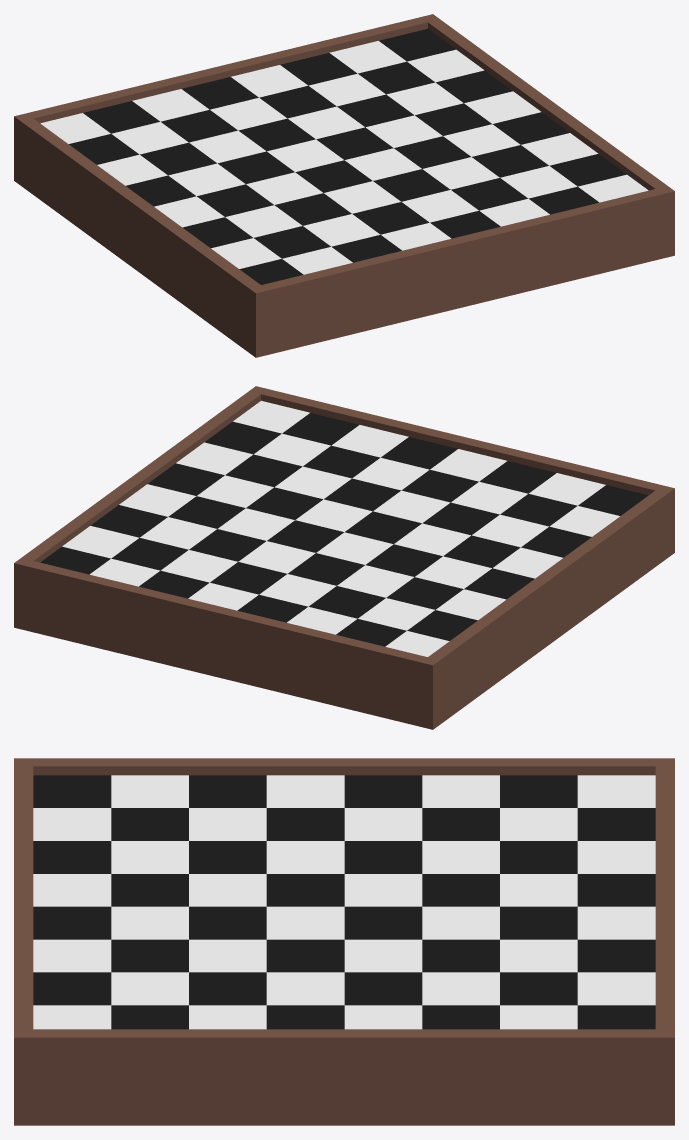
The model's file is chessboard.glb.
3 renders of one model, top to bottom at view 1: azimuth 30°, elevation 25°; view 2: azimuth 150°, elevation 25°; view 3: azimuth 270°, elevation 25°, orthographic. The views are drawn at different scales.
Visible parts, largest first — view 1: group878460196, group1325720107, group731066650, group1235043960, group661305979, group1740890251, group369631215, group1808535318, group278950108, group518038657, group1230324263, group765453840 (+56 smaller); view 2: group731066650, group1325720107, group878460196, group1235043960, group1224889573, group2118100802, group1318065566, group2135613780, group909947231, group983052907, group1790432942, group1740890251 (+56 smaller); view 3: group1235043960, group1325720107, group878460196, group731066650, group1790432942, group661305979, group2029711187, group343376950, group1361117225, group1150728838, group1844088387, group1740890251 (+56 smaller).
Boxes of the visible parts, <box> form: group878460196: <box>261,186,674,354</box>; group1325720107: <box>21,118,268,357</box>; group731066650: <box>14,17,427,185</box>; group1235043960: <box>422,14,667,190</box>; group661305979: <box>443,124,520,156</box>; group1740890251: <box>394,136,470,168</box>; group369631215: <box>238,118,315,151</box>; group1808535318: <box>111,122,188,154</box>; group278950108: <box>132,89,209,121</box>; group518038657: <box>521,133,598,165</box>; group1230324263: <box>379,28,455,61</box>; group765453840: <box>422,157,499,189</box>; group731066650: <box>26,561,440,729</box>; group1325720107: <box>428,485,674,724</box>; group878460196: <box>249,386,661,495</box>; group1235043960: <box>14,391,260,630</box>; group1224889573: <box>373,490,450,523</box>; group2118100802: <box>479,461,556,493</box>; group1318065566: <box>168,496,245,528</box>; group2135613780: <box>218,508,294,540</box>; group909947231: <box>233,400,309,433</box>; group983052907: <box>90,505,167,537</box>; group1790432942: <box>295,499,372,531</box>; group1740890251: <box>246,487,322,519</box>; group1235043960: <box>33,1029,674,1125</box>; group1325720107: <box>14,758,655,775</box>; group878460196: <box>14,766,33,1125</box>; group731066650: <box>655,758,674,1029</box>; group1790432942: <box>266,906,344,939</box>; group661305979: <box>266,972,344,1005</box>; group2029711187: <box>33,906,111,939</box>; group343376950: <box>33,972,111,1005</box>; group1361117225: <box>577,906,655,939</box>; group1150728838: <box>577,972,655,1005</box>; group1844088387: <box>33,939,111,972</box>; group1740890251: <box>266,939,344,972</box>.
Size of the model in its own units: 0.68 by 0.1 by 0.68.
